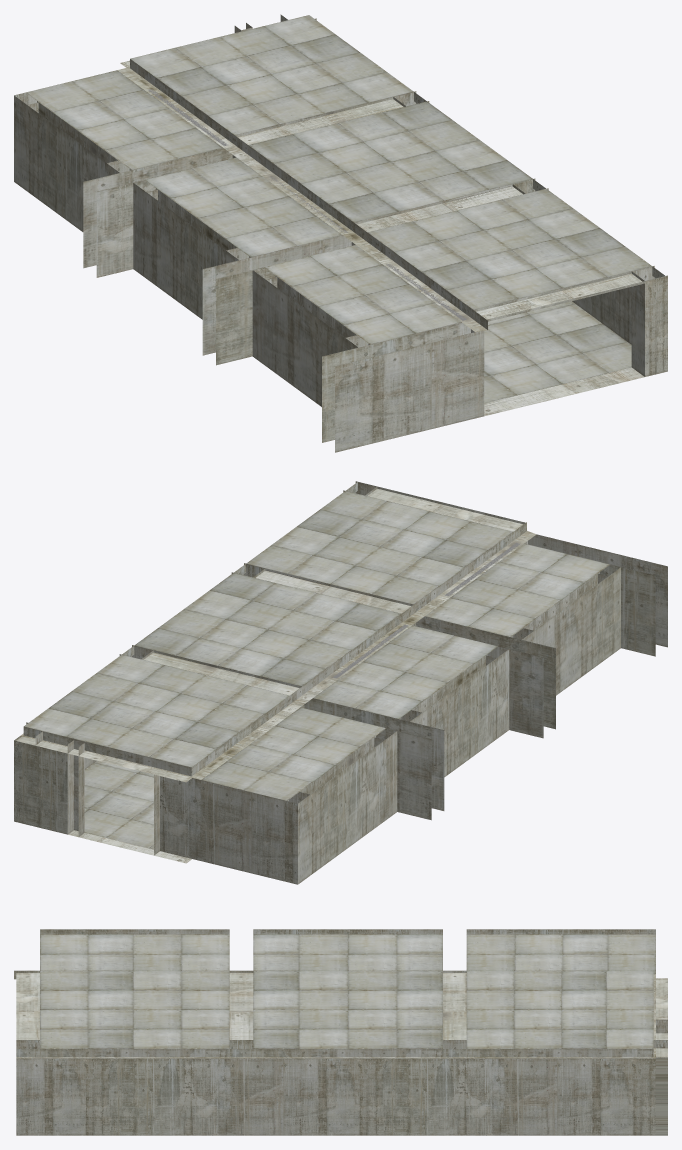
File: Jails_Parts_Set_Er.fbx
3 renders of one model, top to bottom at view 1: azimuth 30°, elevation 25°; view 2: azimuth 150°, elevation 25°; view 3: azimuth 270°, elevation 25°, orthographic. The views are drawn at different scales.
Parts seen in each view (by area): view 1: floor01, wall01; view 2: floor01, wall01; view 3: wall01, floor01.
Part boxes in pixels (bbox=[...]): floor01: bbox=[26, 15, 651, 403]; wall01: bbox=[14, 14, 667, 452]; floor01: bbox=[24, 491, 609, 849]; wall01: bbox=[14, 481, 667, 884]; wall01: bbox=[14, 929, 667, 1135]; floor01: bbox=[40, 934, 655, 1048].
Bounding box in the file's own units: 1450 × 400 × 2760.
